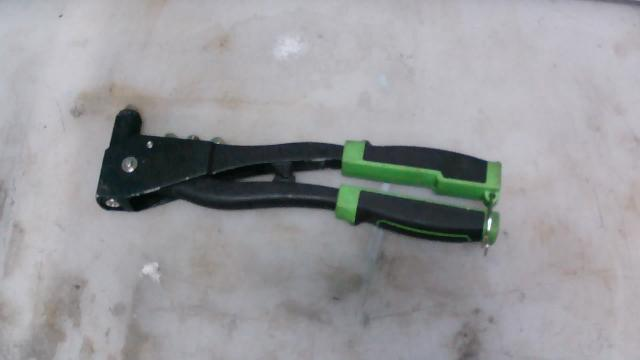tang_rivet: (83, 76, 516, 315)
